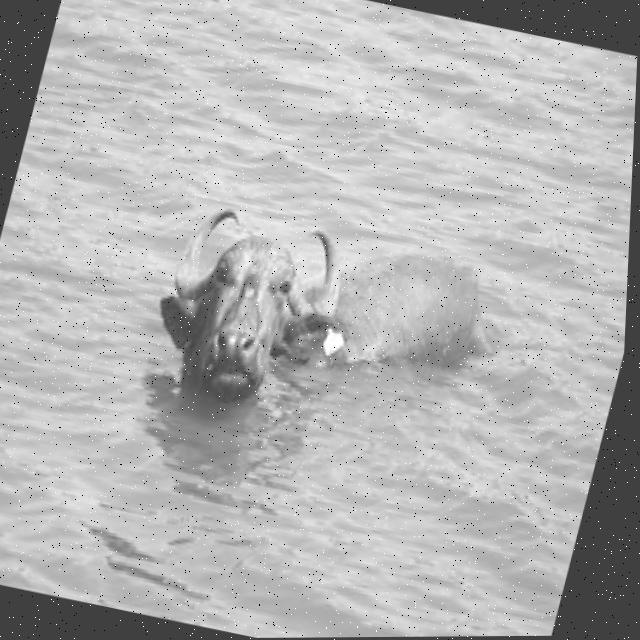Buffalo: (133, 186, 519, 455)
